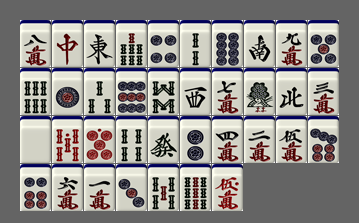0m: (212, 164, 243, 211)
0p: (84, 116, 115, 163)
0s: (52, 116, 83, 163)
1m: (84, 164, 115, 211)
1p: (52, 68, 83, 115)
1s: (244, 68, 275, 115)
1z: (84, 20, 115, 67)
2m: (244, 116, 275, 163)
2p: (180, 116, 211, 163)
2s: (180, 20, 211, 67)
2z: (244, 20, 275, 67)
3m: (308, 68, 339, 115)
3p: (116, 164, 147, 211)
3s: (84, 68, 115, 115)
3z: (180, 68, 211, 115)
4m: (212, 116, 243, 163)
4p: (148, 20, 179, 67)
4s: (116, 116, 147, 163)
4z: (276, 68, 307, 115)
5m: (276, 116, 307, 163)
5p: (308, 20, 339, 67)
5s: (148, 164, 179, 211)
5z: (20, 116, 51, 163)
6m: (52, 164, 83, 211)
6p: (20, 164, 51, 211)
6s: (20, 68, 51, 115)
6z: (148, 116, 179, 163)
7m: (212, 68, 243, 115)
7p: (308, 116, 339, 163)
7s: (116, 20, 147, 67)
7z: (52, 20, 83, 67)
8m: (20, 20, 51, 67)
8p: (212, 20, 243, 67)
8s: (148, 68, 179, 115)
9m: (276, 20, 307, 67)
9p: (116, 68, 147, 115)
9s: (180, 164, 211, 211)
